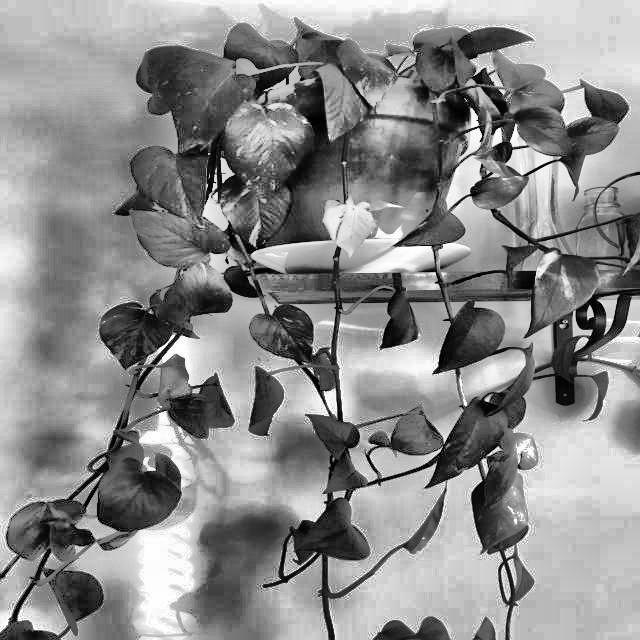plants: (0, 26, 639, 639), (312, 190, 387, 260), (147, 349, 206, 416)
